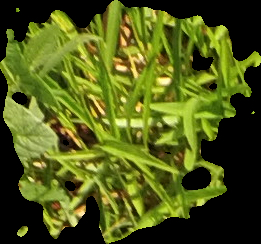grass: (1, 1, 260, 243)
